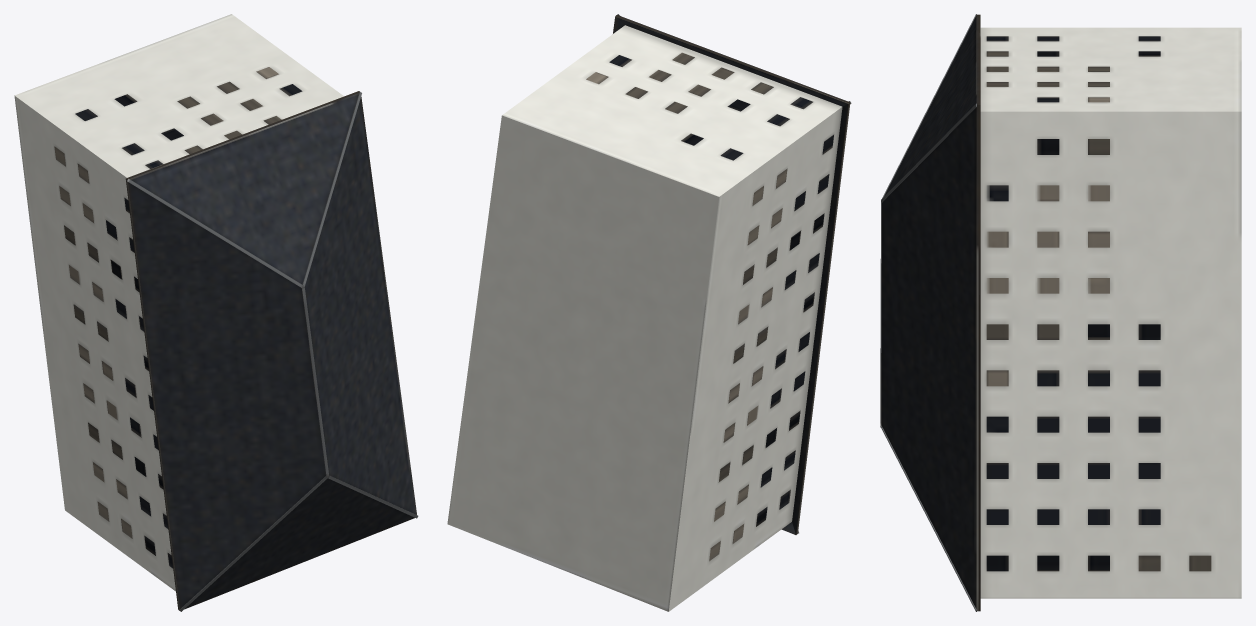
The model's file is house_b0068.obj.
The picture shows the model from 3 angles, left to right: view 1: azimuth 30°, elevation 25°; view 2: azimuth 150°, elevation 25°; view 3: azimuth 270°, elevation 25°; orthographic projection. The views are drawn at different scales.
Parts seen in each view (by area): view 1: house_b0068; view 2: house_b0068; view 3: house_b0068.
Boxes of the visible parts, x1,y1,x2,y2 form: house_b0068: [14, 14, 418, 611]; house_b0068: [447, 14, 851, 611]; house_b0068: [880, 14, 1241, 611].
Bounding box in the file's own units: 21.64 × 33.8 × 21.41.
Materials: 1 (1 with a texture image).
